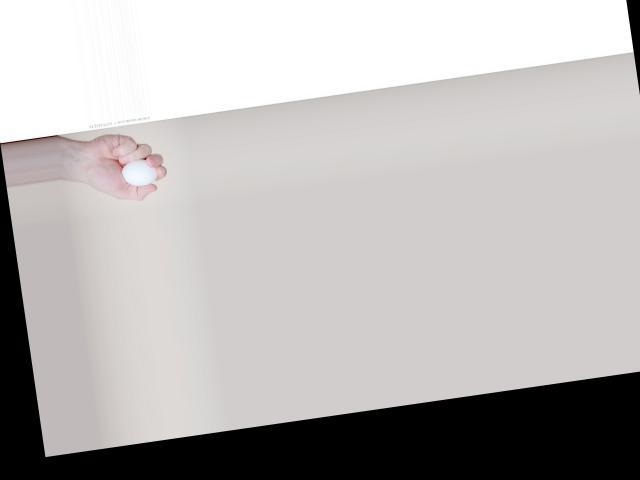egg: (119, 157, 157, 188)
